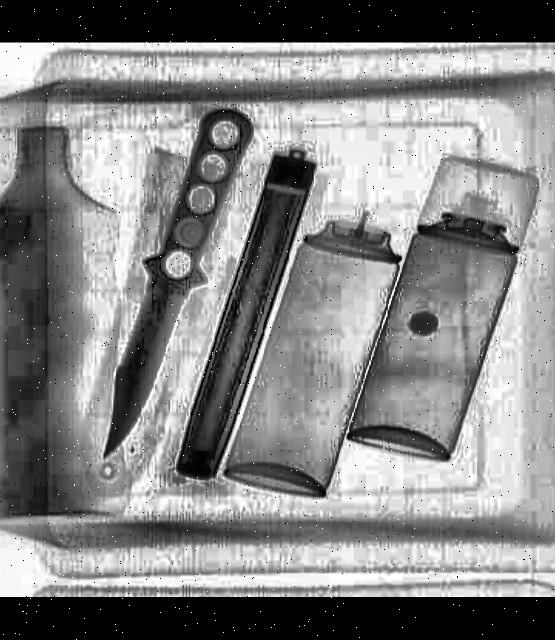Knife: (75, 106, 256, 470)
